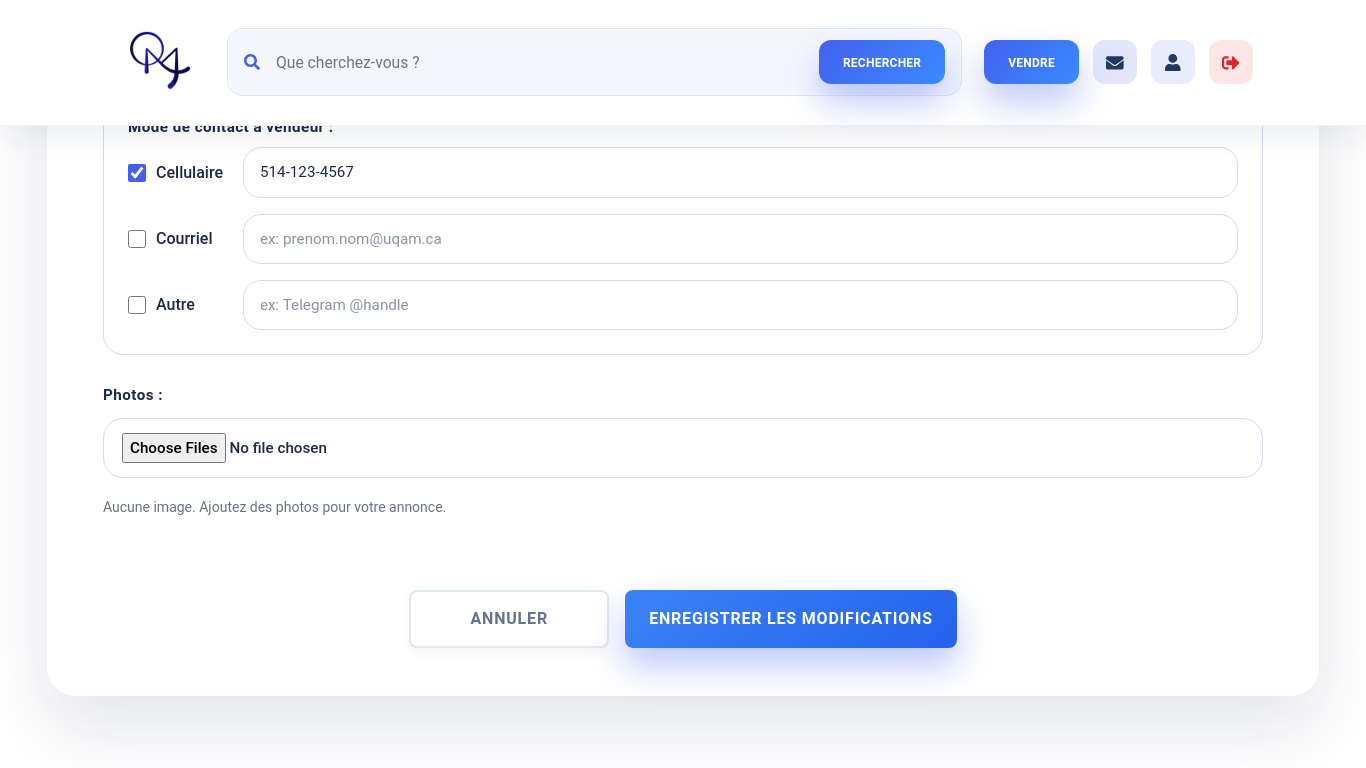
Scenario: EditListing › handles update error
This screenshot has width=1366, height=768.
(page scrolled)
Click the button "Enregistrer les modifications" at (791, 619), box [625, 590, 957, 648]
(page scrolled)
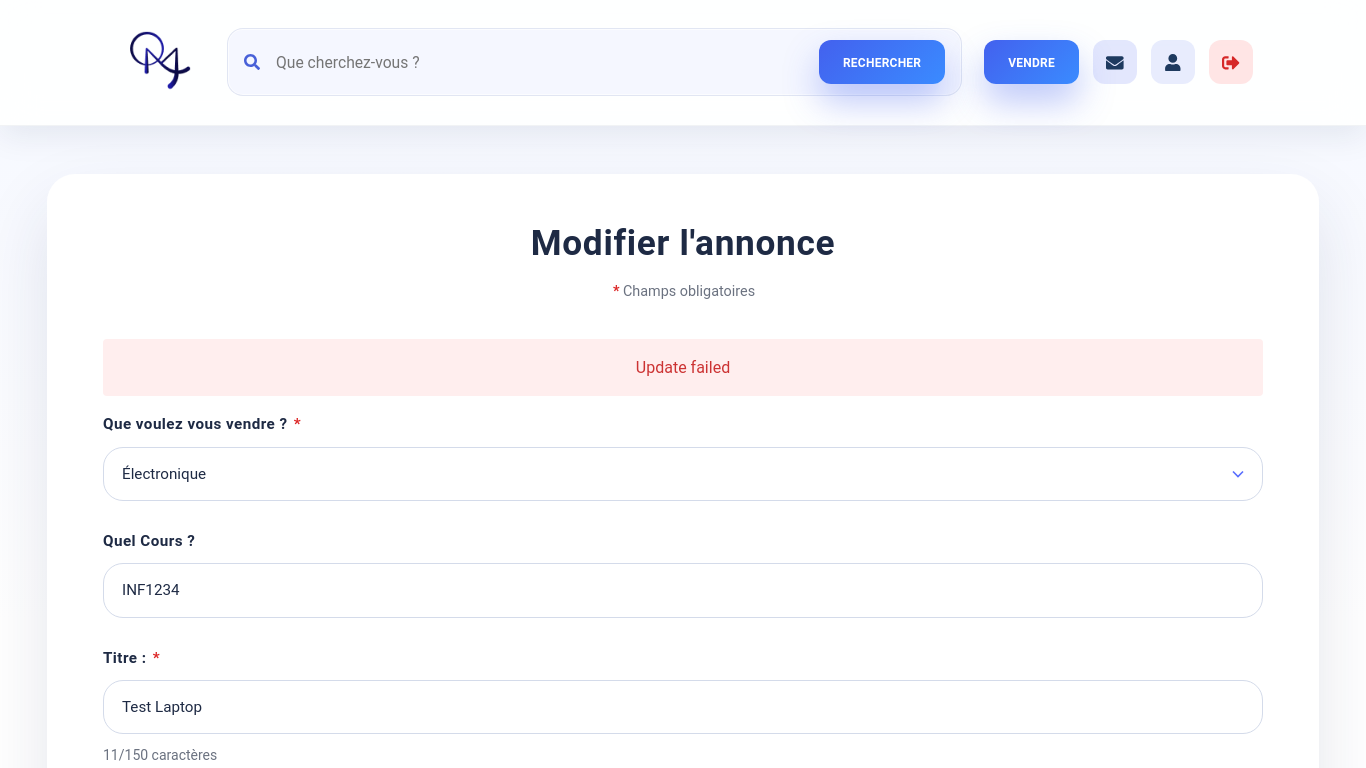
Now the text "Update failed" is shown, box [103, 339, 1263, 396]
